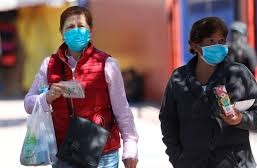with_mask: (191, 20, 233, 68), (60, 8, 95, 53)
